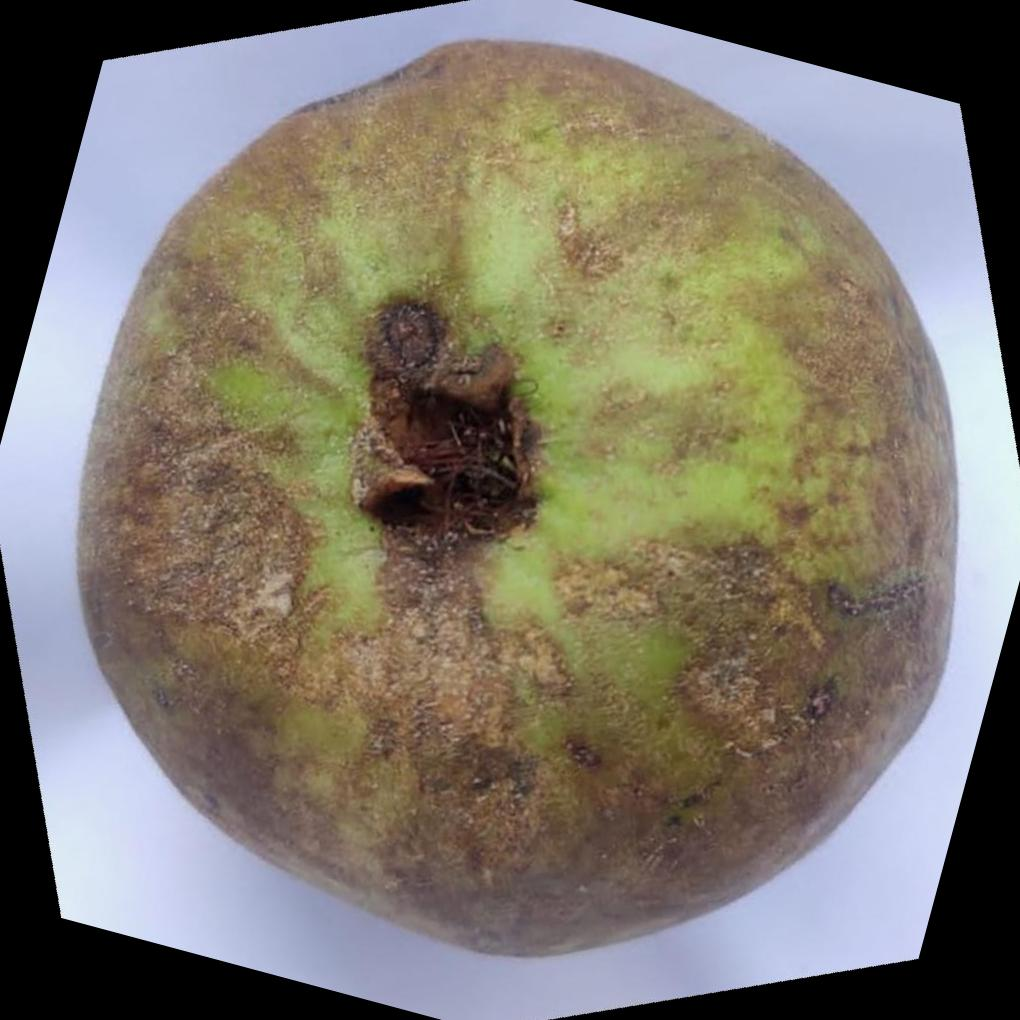FreshOrange: (78, 40, 962, 953)
